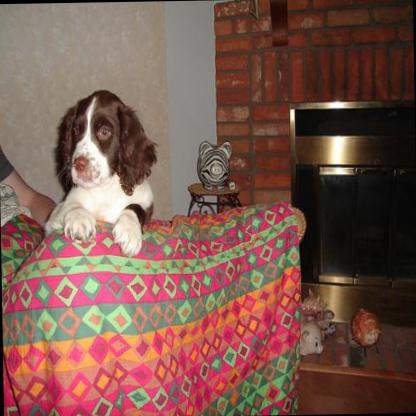English_springer: (40, 86, 160, 260)
